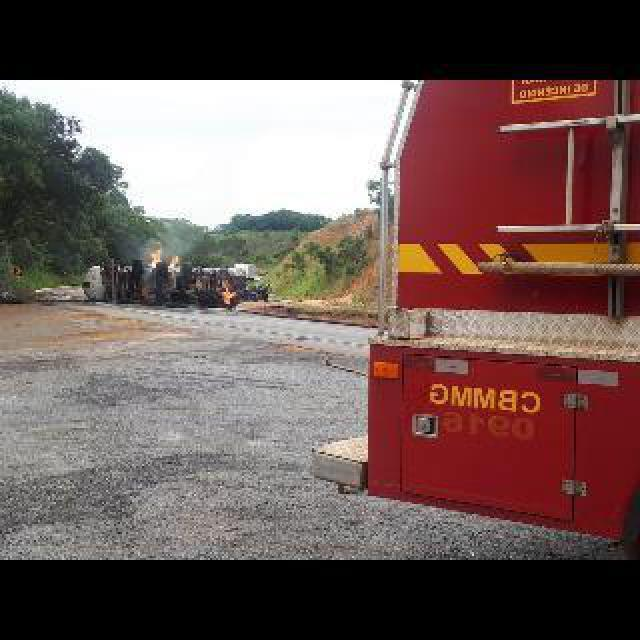fire: (146, 222, 208, 252), (218, 282, 238, 304), (148, 242, 164, 266), (166, 254, 180, 266)
